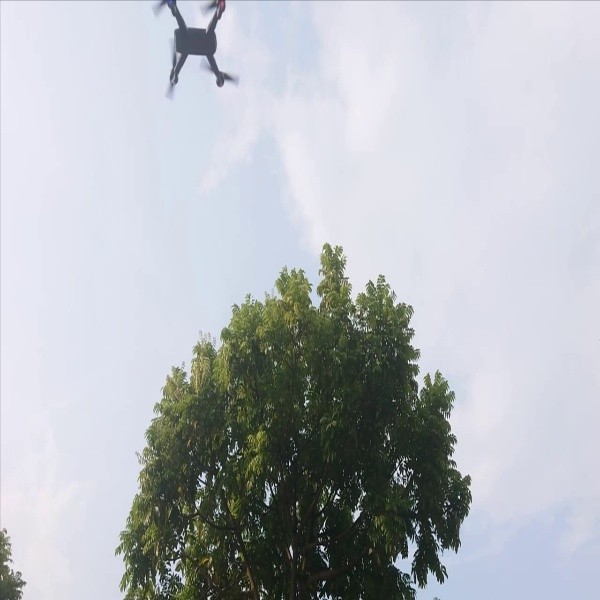drone: (147, 1, 247, 104)
